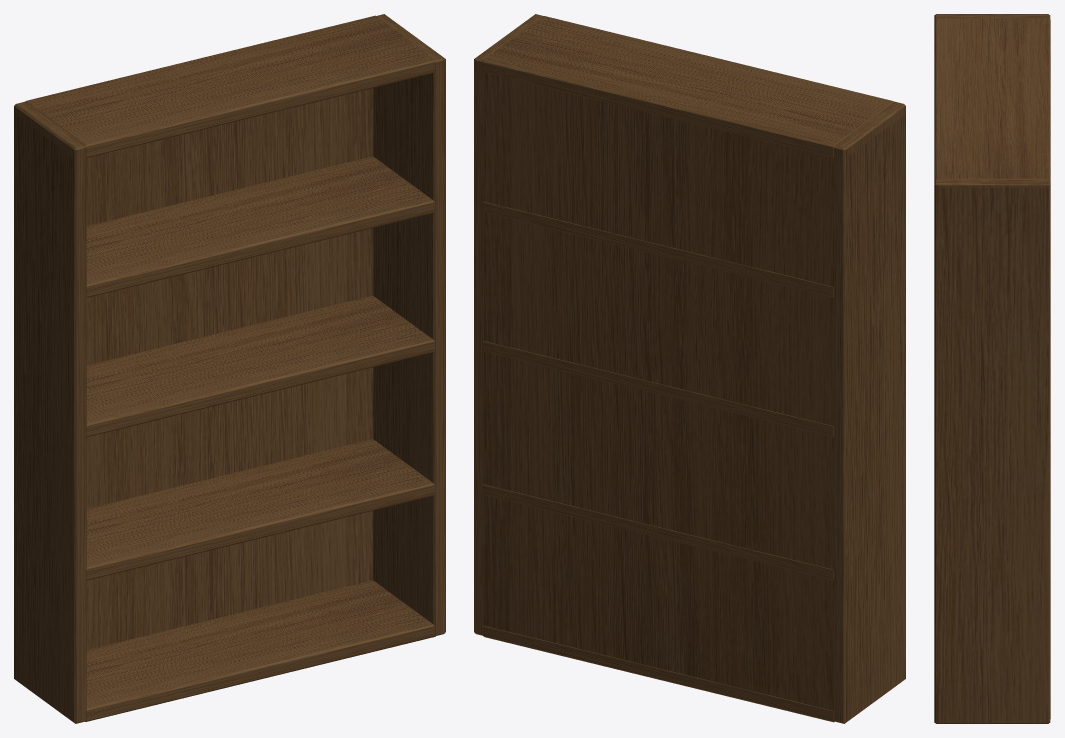
Rendered from Bookshelf1.fbx.
The picture shows the model from 3 angles, left to right: view 1: azimuth 30°, elevation 25°; view 2: azimuth 150°, elevation 25°; view 3: azimuth 270°, elevation 25°; orthographic projection. The views are drawn at different scales.
Visible parts, largest first — view 1: Bookshelf; view 2: Bookshelf; view 3: Bookshelf.
Part boxes in pixels (x1=…): Bookshelf: x1=14, y1=14, x2=445, y2=723; Bookshelf: x1=474, y1=14, x2=905, y2=723; Bookshelf: x1=934, y1=14, x2=1050, y2=723.
Bounding box in the file's own units: 11.64 × 17.27 × 3.36.
